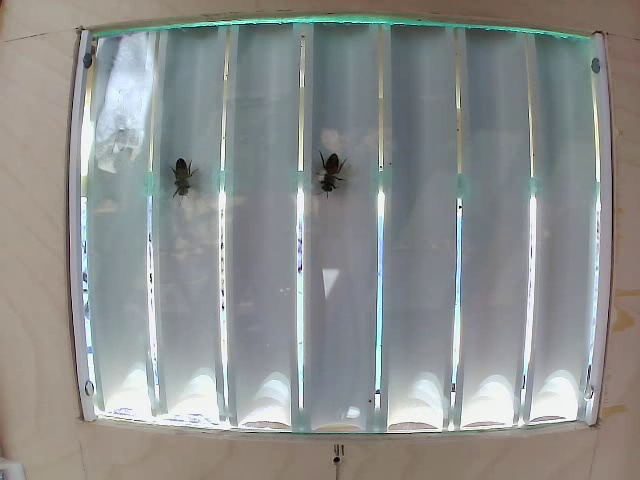bee: (159, 147, 218, 215), (312, 144, 351, 196)
